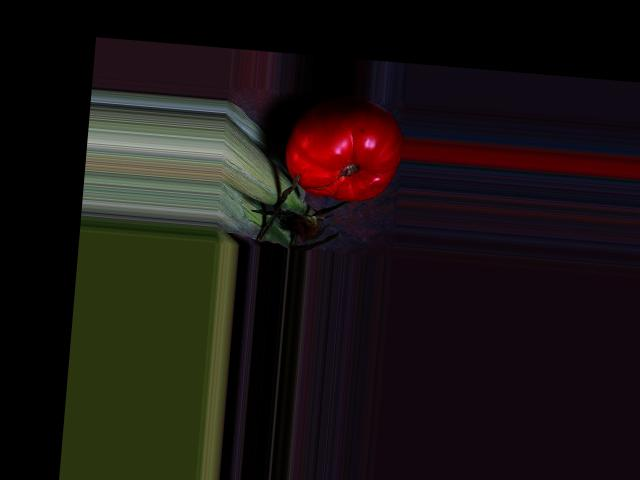tomato: (281, 91, 405, 205)
